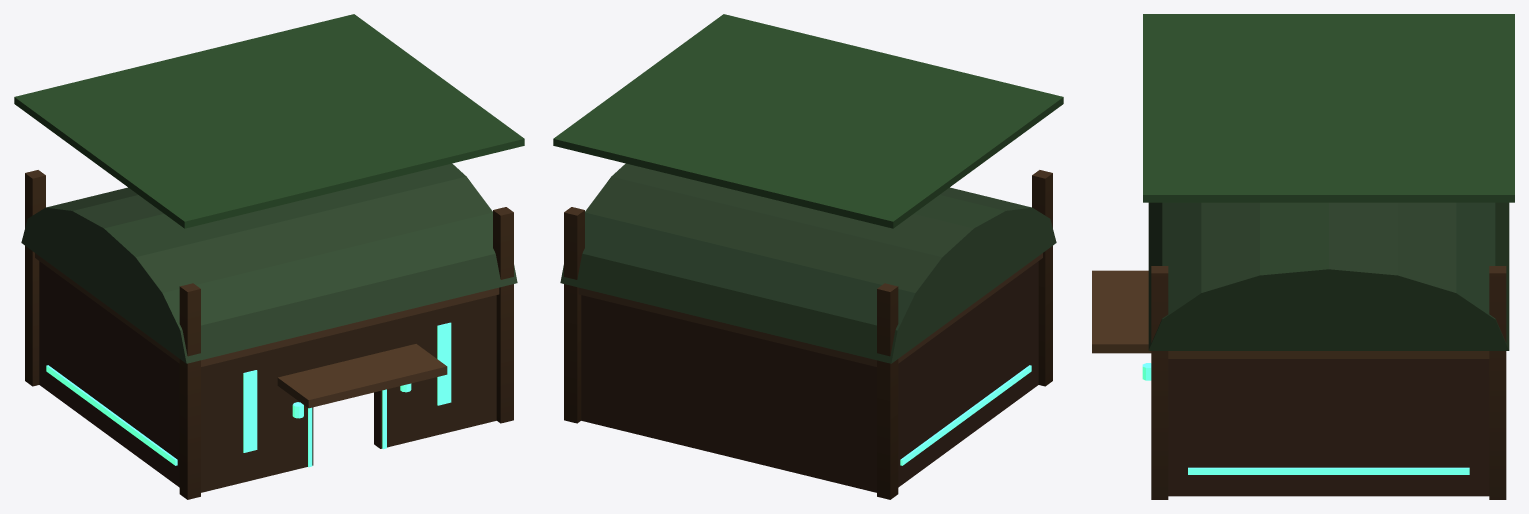
Rendered from shaddai_dist_forest_b2_v01.glb.
3 views of the same model, side by side, from view 1: azimuth 30°, elevation 25°; view 2: azimuth 150°, elevation 25°; view 3: azimuth 270°, elevation 25° (orthographic). The views are drawn at different scales.
Parts seen in each view (by area): view 1: shaddai_dist_forest_b2; view 2: shaddai_dist_forest_b2; view 3: shaddai_dist_forest_b2.
Part boxes in pixels (box(x1,y1,x2,y2)): shaddai_dist_forest_b2: box(14, 14, 524, 499); shaddai_dist_forest_b2: box(553, 14, 1063, 499); shaddai_dist_forest_b2: box(1092, 14, 1514, 499).
Size of the model in its own units: 15.2 by 12.08 by 15.
